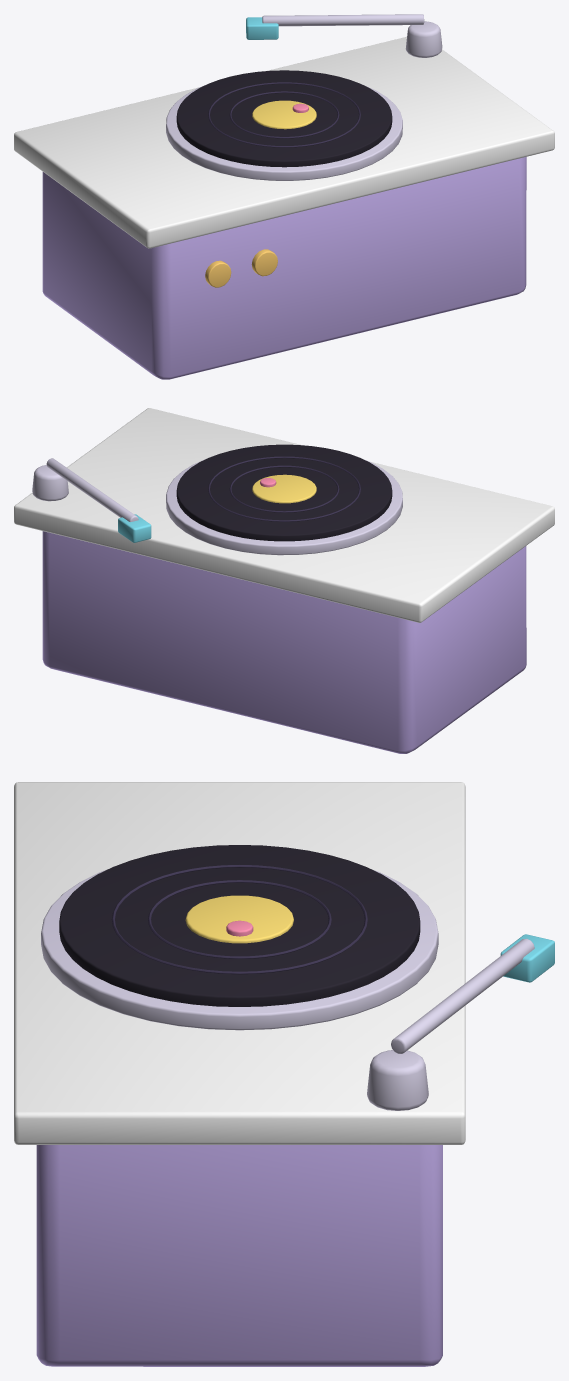
Rendered from object-turntable.glb.
3 renders of one model, top to bottom at view 1: azimuth 30°, elevation 25°; view 2: azimuth 150°, elevation 25°; view 3: azimuth 270°, elevation 25°, orthographic. The views are drawn at different scales.
Visible parts, largest first — view 1: Node_0-mesh, part-platter-mesh, part-tonearm-mesh; view 2: Node_0-mesh, part-platter-mesh, part-tonearm-mesh; view 3: Node_0-mesh, part-platter-mesh, part-tonearm-mesh.
Boxes of the visible parts, box(x1,y1,x2,y2) form: Node_0-mesh: box(14, 21, 554, 379); part-platter-mesh: box(176, 70, 392, 167); part-tonearm-mesh: box(246, 14, 424, 39); Node_0-mesh: box(14, 408, 554, 753); part-platter-mesh: box(176, 444, 392, 541); part-tonearm-mesh: box(46, 458, 151, 542); Node_0-mesh: box(14, 782, 465, 1366); part-platter-mesh: box(59, 845, 420, 1006); part-tonearm-mesh: box(391, 934, 554, 1053).
Size of the model in its own units: 1.75 by 0.82 by 1.2.
